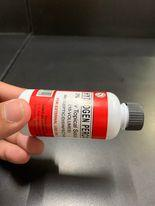-Bottle-: (17, 89, 145, 141)
